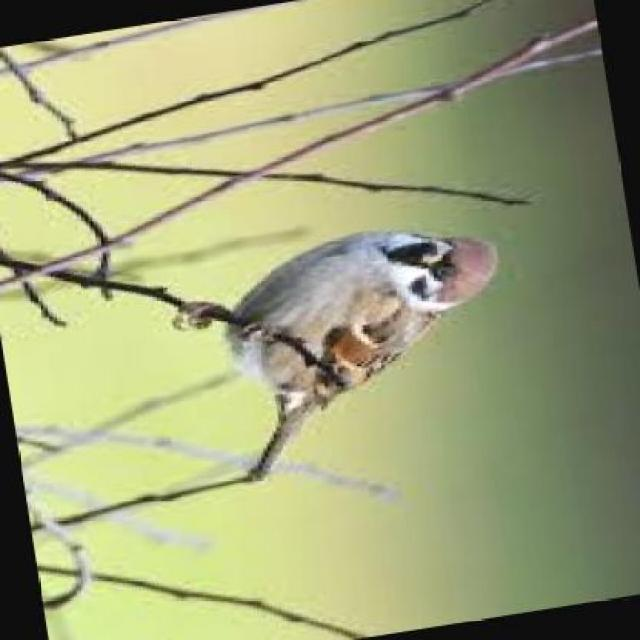Bird: (183, 227, 504, 485)
